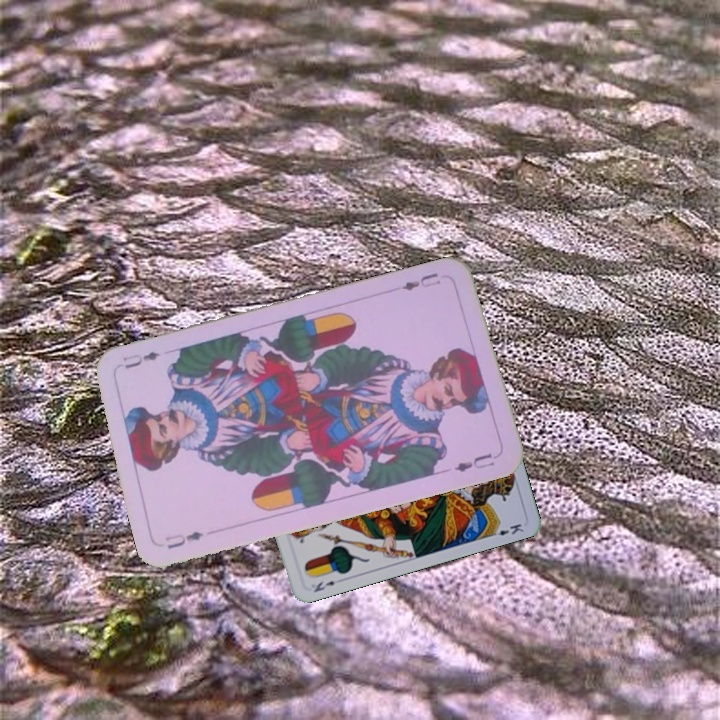EK: (310, 577, 338, 595)
EU: (398, 269, 443, 294), (161, 527, 206, 552)
